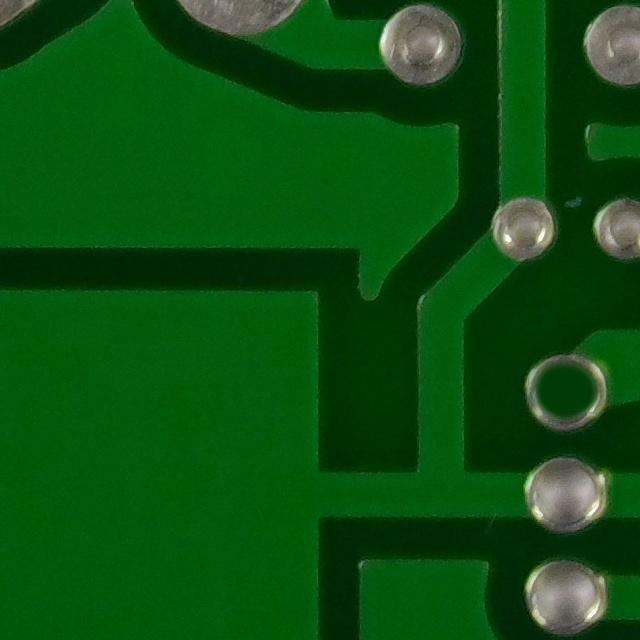missing_hole: (522, 348, 618, 436)
